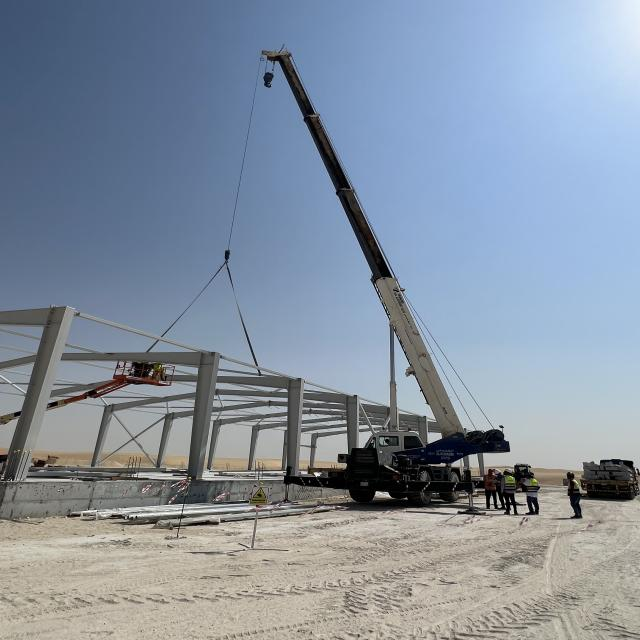Mobile Crane: (260, 42, 512, 510)
